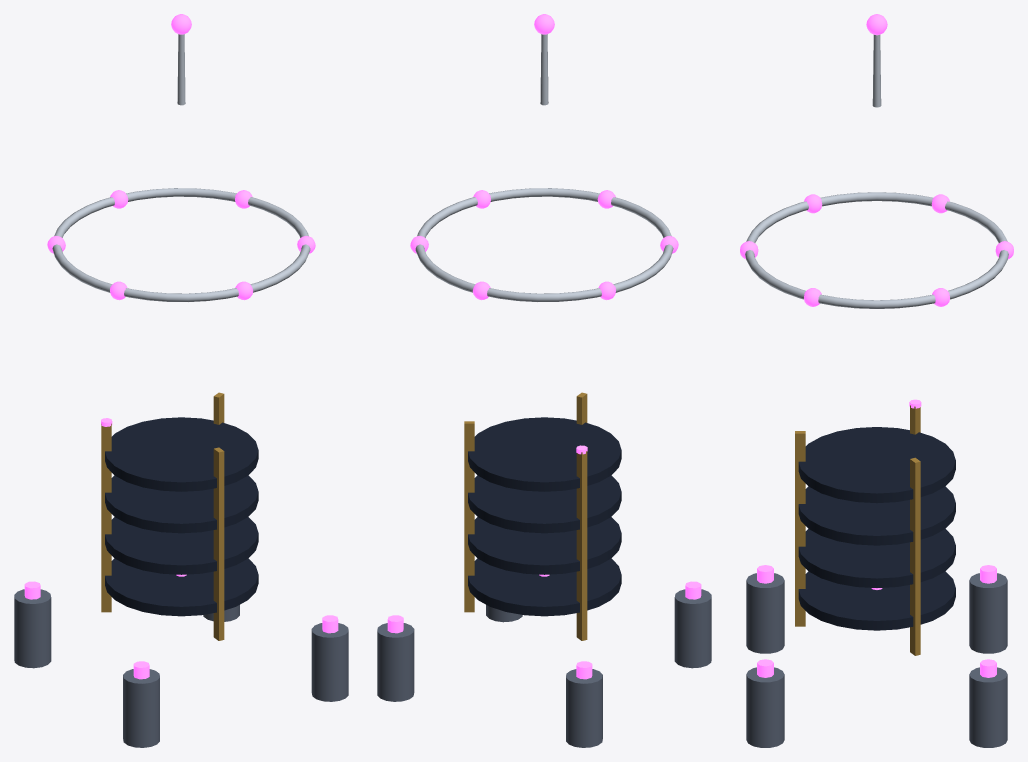
The model's file is tower_arc_damage_s6.glb.
The picture shows the model from 3 angles, left to right: view 1: azimuth 30°, elevation 25°; view 2: azimuth 150°, elevation 25°; view 3: azimuth 270°, elevation 25°; orthographic projection. The views are drawn at different scales.
Visible parts, largest first — view 1: arc_insulator_sleeve3, arc_insulator_sleeve2, arc_insulator_sleeve1, arc_insulator_sleeve0, arc_electrode_ring, arc_shock_cap0, arc_shock_cap2, arc_shock_cap3, arc_ground_strap2, arc_ground_strap0, arc_spire_ext; view 2: arc_insulator_sleeve3, arc_insulator_sleeve2, arc_insulator_sleeve1, arc_insulator_sleeve0, arc_electrode_ring, arc_shock_cap3, arc_shock_cap1, arc_shock_cap0, arc_ground_strap0, arc_ground_strap1, arc_spire_ext; view 3: arc_insulator_sleeve3, arc_insulator_sleeve2, arc_insulator_sleeve1, arc_insulator_sleeve0, arc_electrode_ring, arc_shock_cap0, arc_shock_cap3, arc_shock_cap1, arc_shock_cap2, arc_ground_strap1, arc_ground_strap2, arc_spire_ext.
Boxes of the visible parts, x1,y1,x2,y2 form: arc_insulator_sleeve3: [105, 417, 258, 491]; arc_insulator_sleeve2: [105, 475, 258, 533]; arc_insulator_sleeve1: [105, 517, 258, 574]; arc_insulator_sleeve0: [105, 558, 258, 616]; arc_electrode_ring: [52, 188, 310, 301]; arc_shock_cap0: [14, 589, 51, 668]; arc_shock_cap2: [311, 623, 348, 701]; arc_shock_cap3: [123, 669, 159, 747]; arc_ground_strap2: [213, 447, 224, 640]; arc_ground_strap0: [101, 423, 111, 612]; arc_spire_ext: [177, 34, 185, 105]; arc_insulator_sleeve3: [468, 417, 621, 491]; arc_insulator_sleeve2: [468, 475, 621, 533]; arc_insulator_sleeve1: [468, 517, 621, 574]; arc_insulator_sleeve0: [468, 558, 621, 616]; arc_electrode_ring: [415, 188, 673, 301]; arc_shock_cap3: [674, 589, 711, 668]; arc_shock_cap1: [377, 623, 414, 701]; arc_shock_cap0: [566, 669, 602, 747]; arc_ground_strap0: [576, 451, 587, 640]; arc_ground_strap1: [464, 421, 474, 612]; arc_spire_ext: [540, 34, 548, 105]; arc_insulator_sleeve3: [798, 427, 955, 503]; arc_insulator_sleeve2: [798, 486, 955, 545]; arc_insulator_sleeve1: [798, 529, 955, 587]; arc_insulator_sleeve0: [798, 571, 955, 630]; arc_electrode_ring: [745, 192, 1008, 308]; arc_shock_cap0: [969, 573, 1007, 653]; arc_shock_cap3: [746, 573, 784, 653]; arc_shock_cap1: [969, 667, 1007, 747]; arc_shock_cap2: [746, 667, 784, 747]; arc_ground_strap1: [910, 457, 920, 655]; arc_ground_strap2: [795, 431, 805, 626]; arc_spire_ext: [872, 35, 881, 107].
Size of the model in its own units: 1.24 by 3.51 by 1.29.
